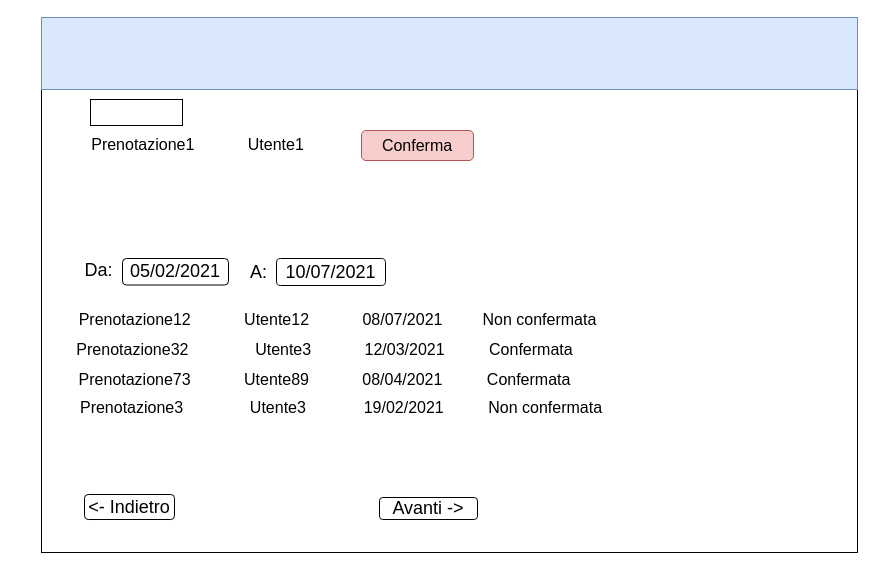
The diagram is 875 pixels wide and 570 high, and some of its shapes have lost their labels. The shapes that lost their labels are listed below. From the top down, each one's box as (x1, y1, x2, y2) in pixels, then its label:
(40, 16, 858, 90): Prenotazioni
(90, 98, 182, 126): Oggi:
